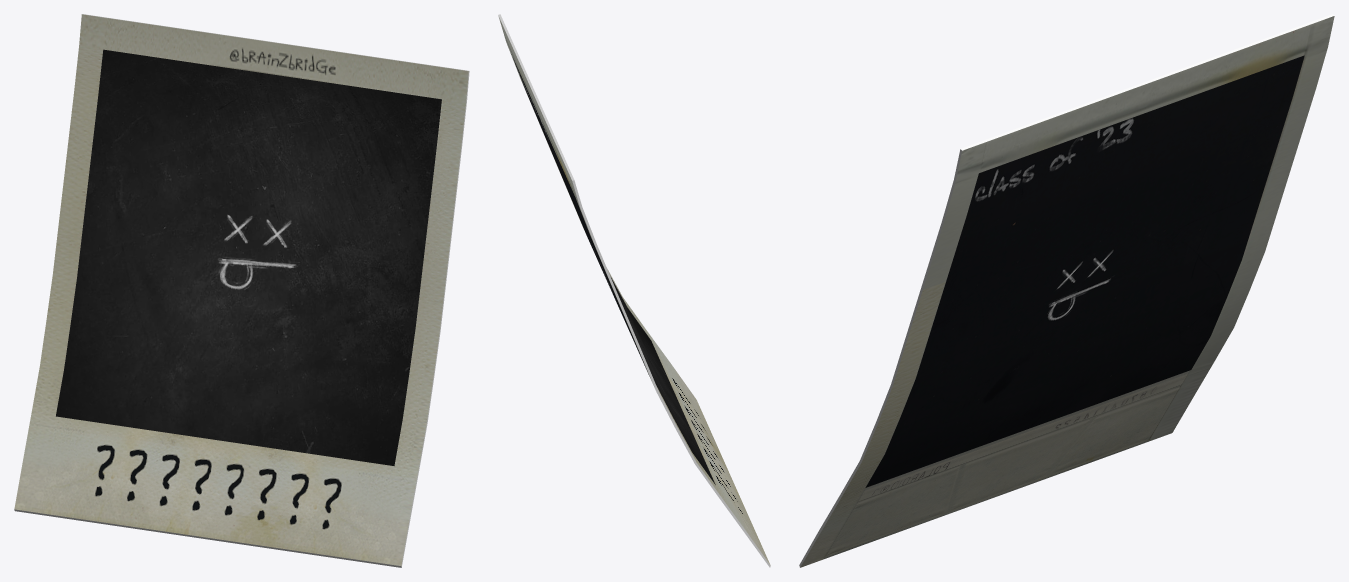
File: testingar22.glb
3 views of the same model, side by side, from view 1: azimuth 30°, elevation 25°; view 2: azimuth 150°, elevation 25°; view 3: azimuth 270°, elevation 25° (orthographic). The views are drawn at different scales.
Visible parts, largest first — view 1: Object_3, Object_5; view 2: Object_5, Object_3, Object_4; view 3: Object_4, Object_5.
Part boxes in pixels (x1,y1,x2,y2): Object_3: (56, 49, 441, 465); Object_5: (14, 14, 469, 567); Object_5: (498, 14, 770, 567); Object_3: (611, 278, 715, 484); Object_4: (511, 54, 649, 376); Object_4: (865, 55, 1304, 487); Object_5: (799, 14, 1334, 567).
Bounding box in the file's own units: 1.46 × 1.57 × 1.53.
Materials: 3 (3 with a texture image).
